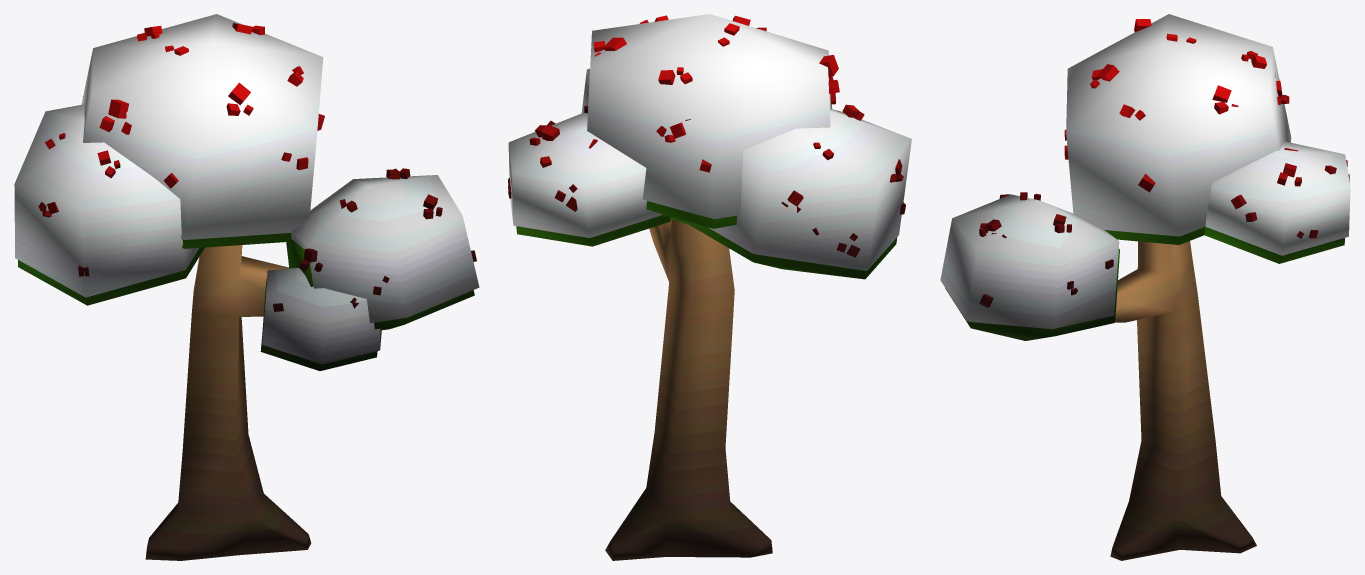
Rendered from SM_Oak_Tree_Flower.fbx.
The picture shows the model from 3 angles, left to right: view 1: azimuth 30°, elevation 25°; view 2: azimuth 150°, elevation 25°; view 3: azimuth 270°, elevation 25°; orthographic projection. The views are drawn at different scales.
Visible parts, largest first — view 1: Oak_Leaves_Snow, Oak_Trunk, Oak_Leaves, Flowers; view 2: Oak_Leaves_Snow, Oak_Trunk, Oak_Leaves, Flowers; view 3: Oak_Leaves_Snow, Oak_Trunk, Flowers, Oak_Leaves.
Part boxes in pixels (x1,y1,x2,y2): Oak_Leaves_Snow: [14, 14, 479, 364]; Oak_Trunk: [145, 245, 311, 560]; Oak_Leaves: [18, 233, 474, 370]; Flowers: [38, 23, 476, 311]; Oak_Leaves_Snow: [508, 14, 911, 270]; Oak_Trunk: [605, 219, 772, 560]; Oak_Leaves: [516, 201, 897, 279]; Flowers: [508, 15, 905, 257]; Oak_Leaves_Snow: [940, 14, 1350, 329]; Oak_Trunk: [1110, 241, 1256, 560]; Flowers: [979, 19, 1349, 307]; Oak_Leaves: [945, 226, 1344, 340].
Bounding box in the file's own units: 7.17 × 9.44 × 7.31.
